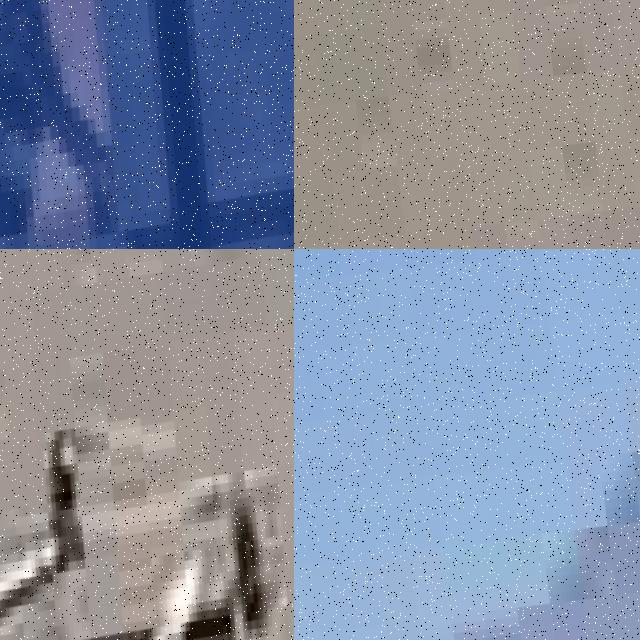0: (0, 249, 294, 640)
drone: (0, 0, 294, 249)
